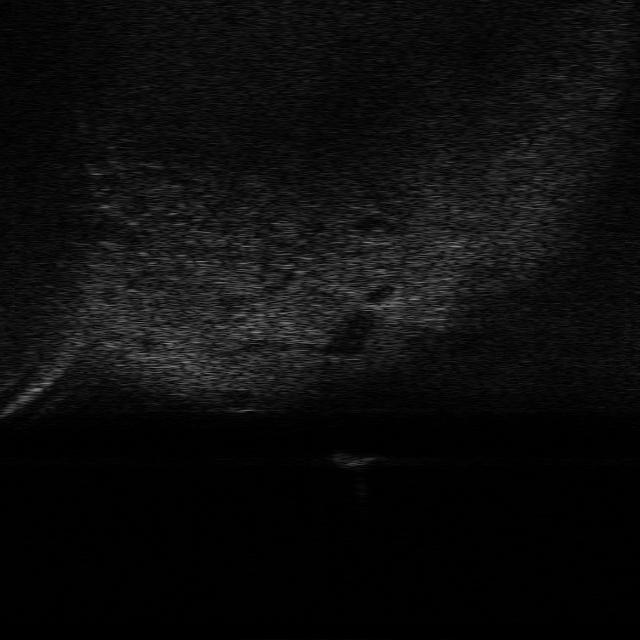cube: (329, 450, 385, 470)
